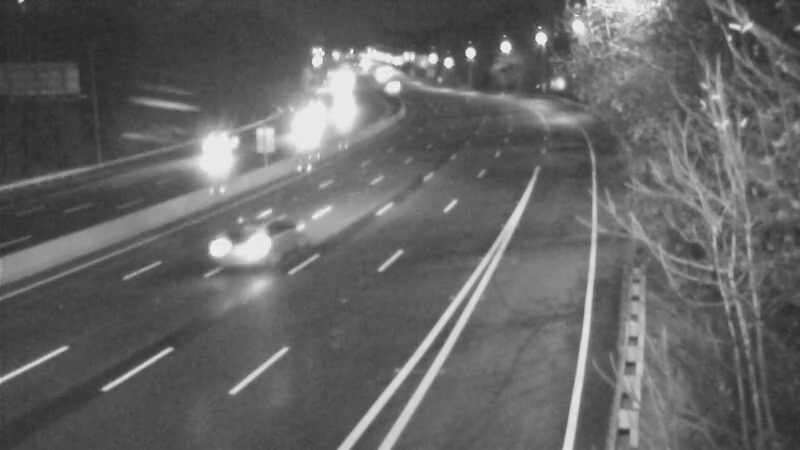vehicle: (210, 201, 290, 281), (173, 115, 253, 195), (265, 112, 315, 162), (322, 90, 372, 140)
